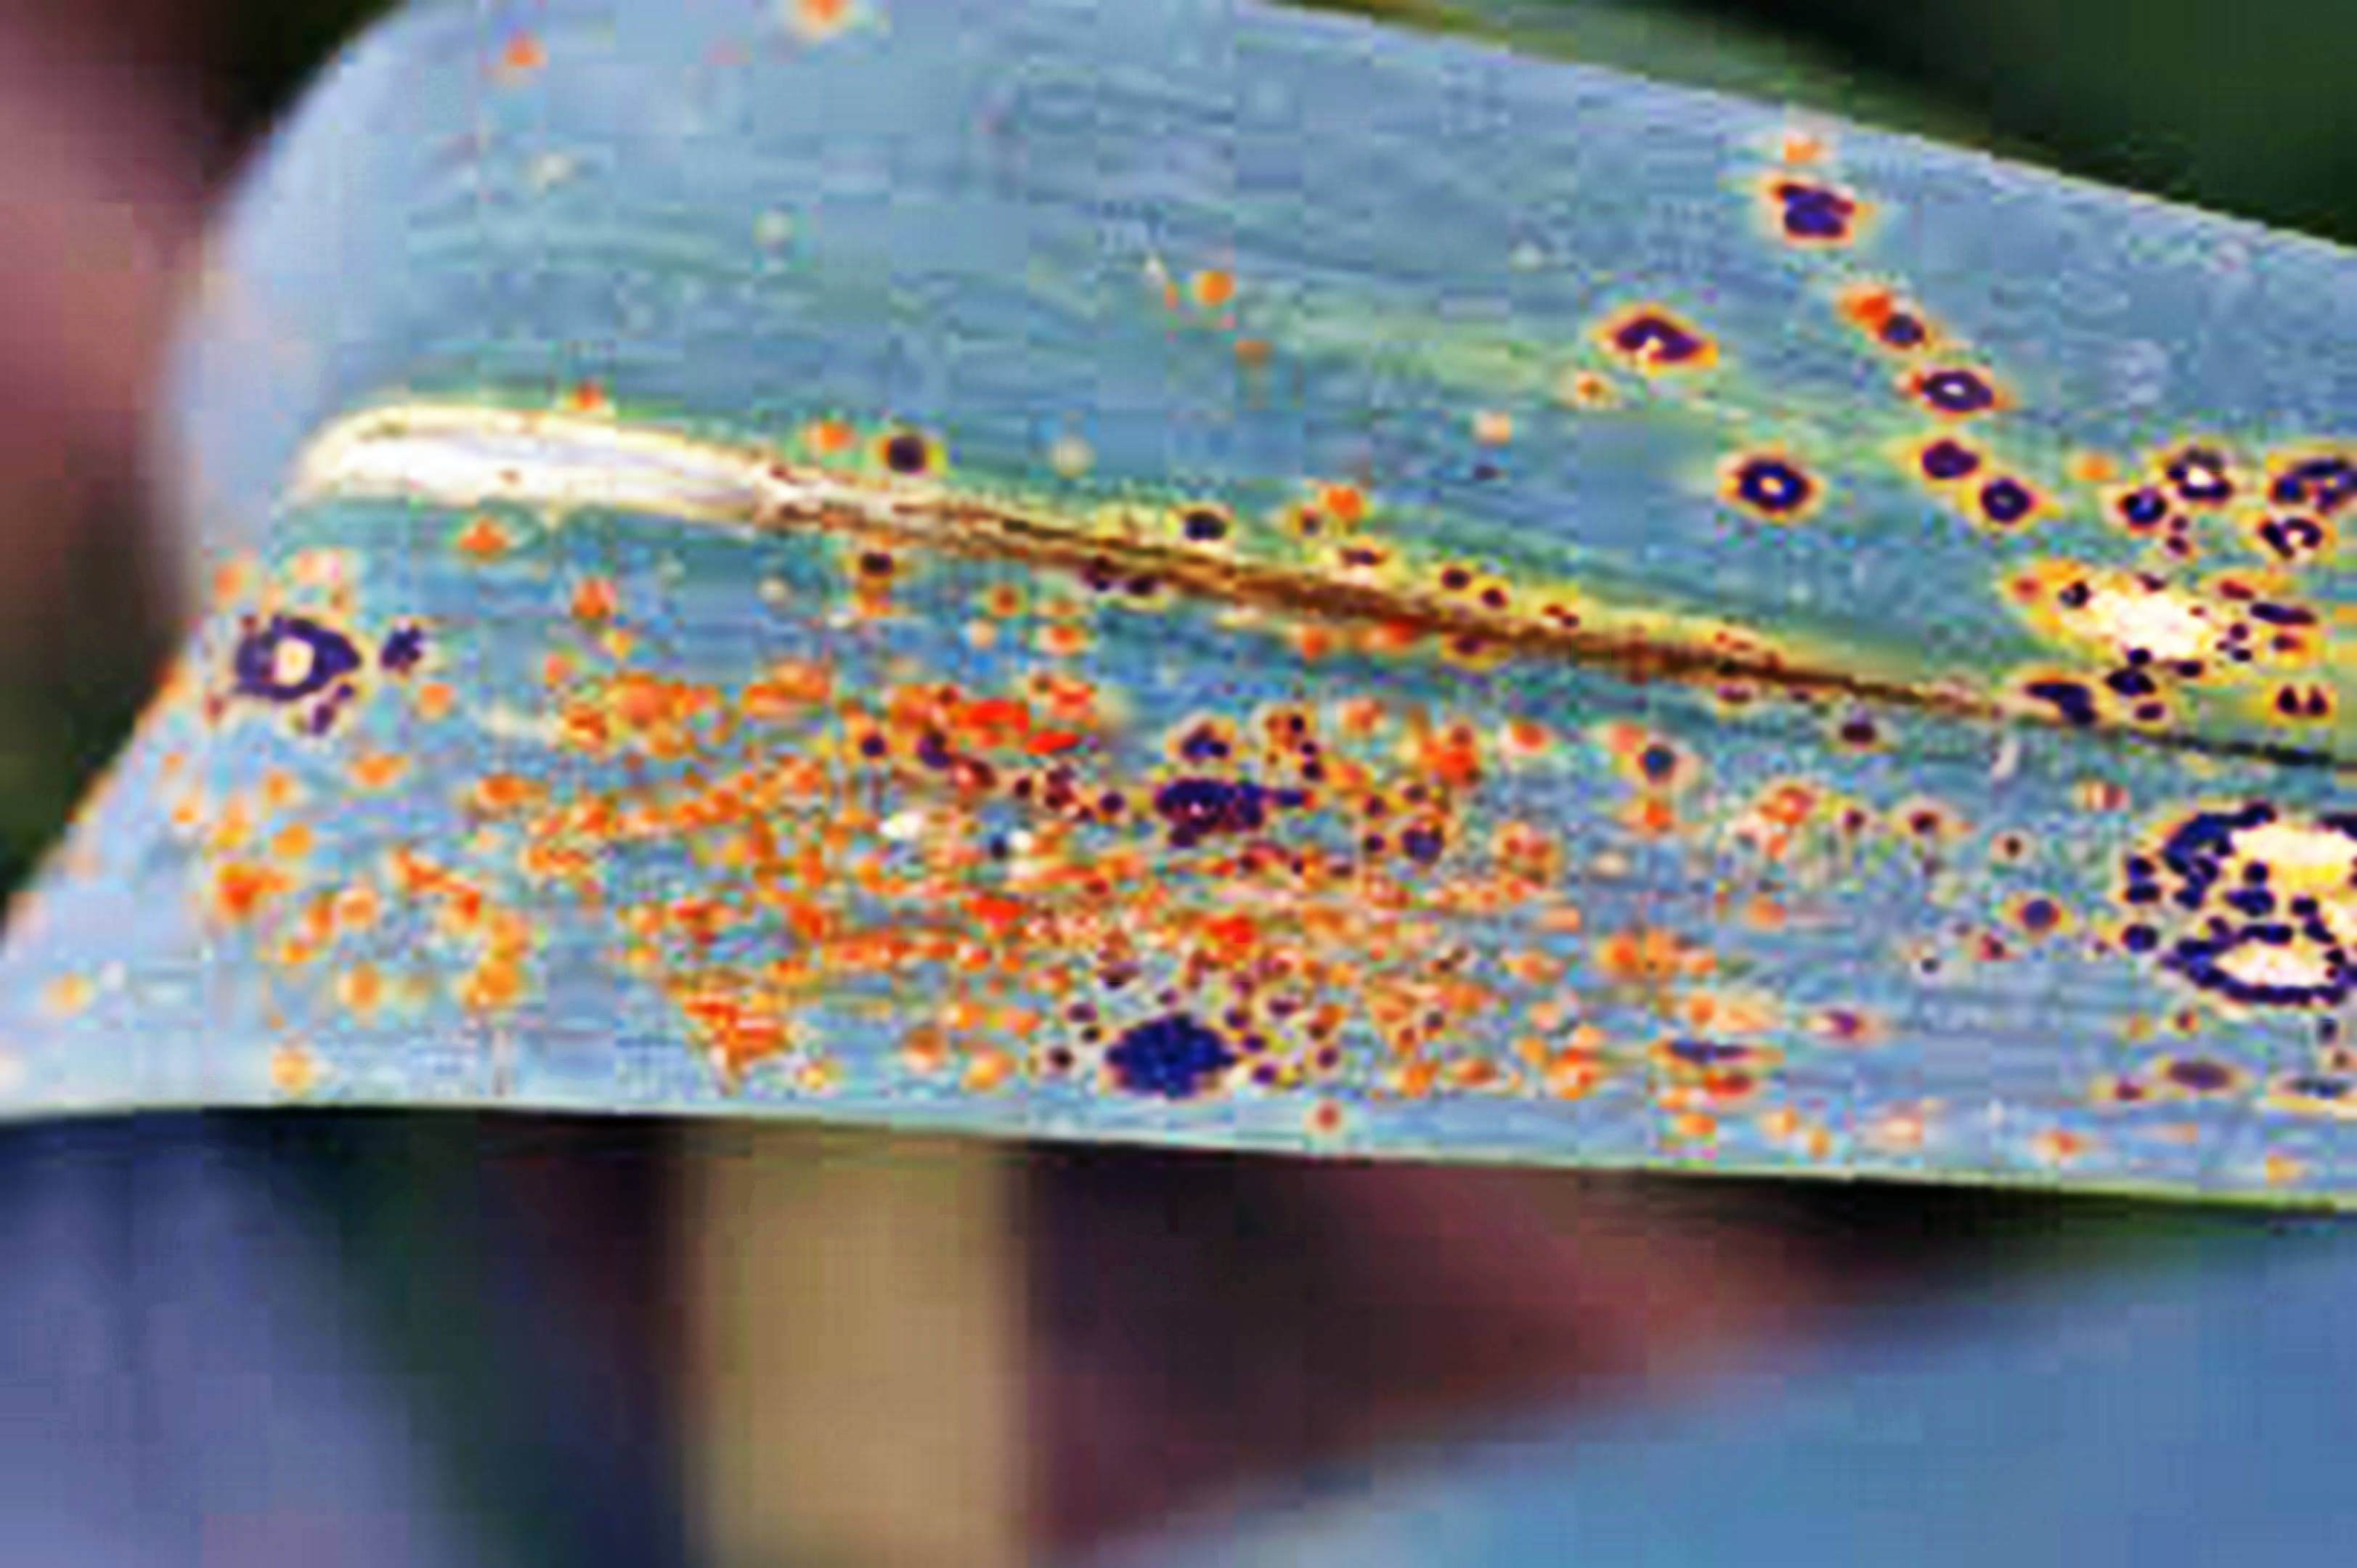Leaf Rust: (395, 171, 2229, 1235)
